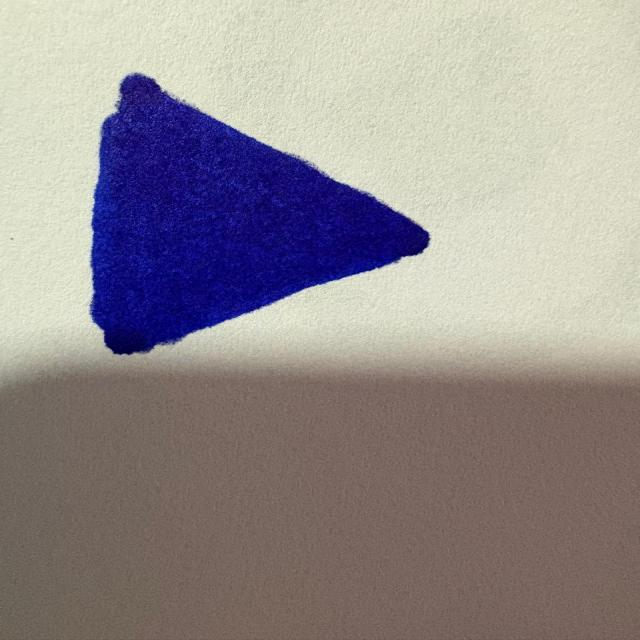Triangle: (84, 66, 443, 389)
